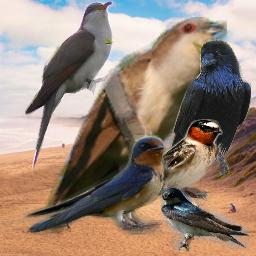Crow: (161, 39, 251, 177)
Cuckoo: (38, 17, 227, 239), (24, 1, 113, 172)
Swallow: (0, 135, 173, 235), (108, 118, 223, 204), (161, 188, 249, 252)
